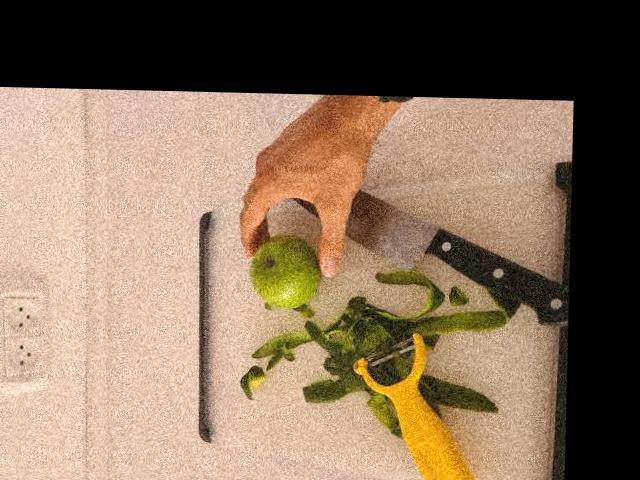apple: (247, 234, 323, 312)
